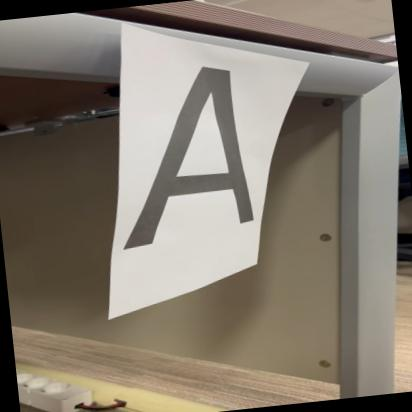seat: (83, 55, 316, 260)
